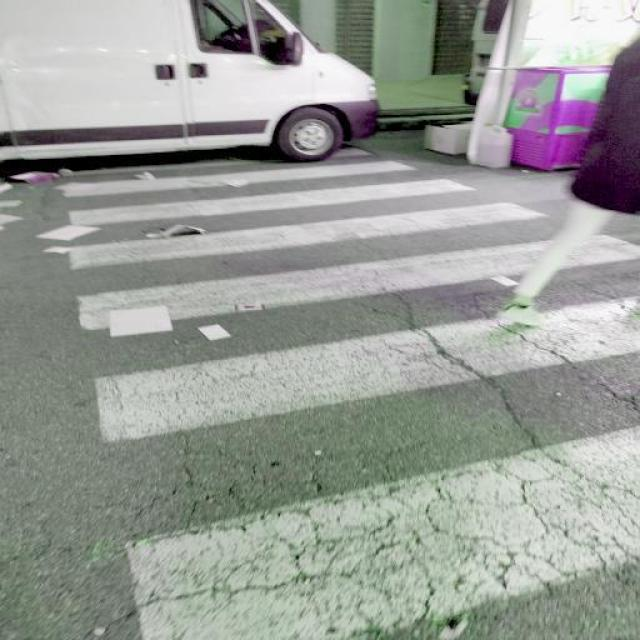crosswalk: (62, 156, 639, 640)
